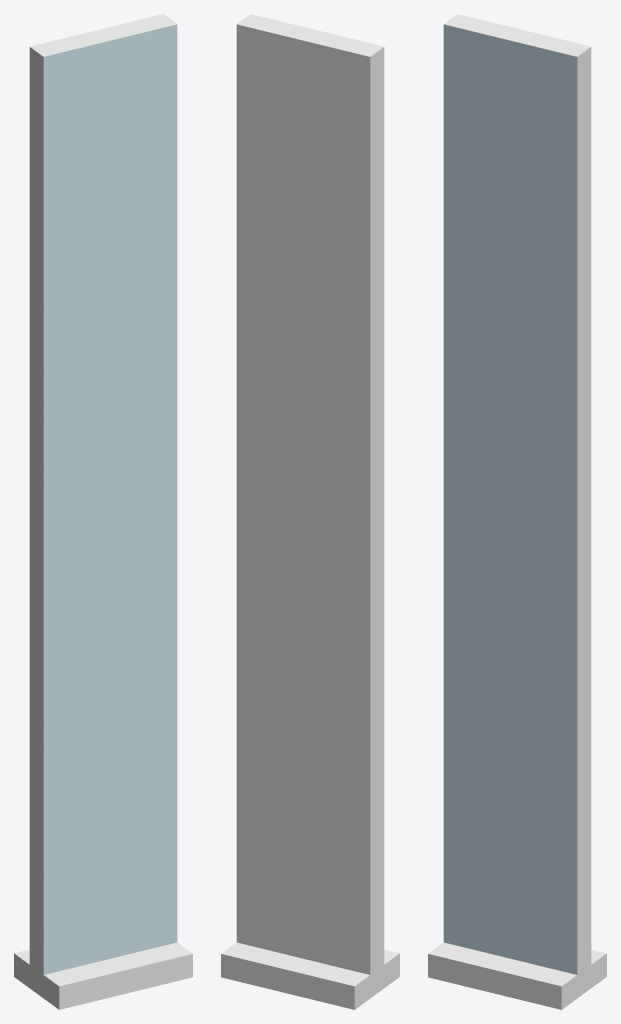
The model's file is 27_wall.FBX.
The picture shows the model from 3 angles, left to right: view 1: azimuth 30°, elevation 25°; view 2: azimuth 150°, elevation 25°; view 3: azimuth 330°, elevation 25°; orthographic projection.
Visible parts, largest first — view 1: 27_wall; view 2: 27_wall; view 3: 27_wall.
Part boxes in pixels (left/top/right/bottom): 27_wall: left=14, top=14, right=192, bottom=1009; 27_wall: left=221, top=14, right=399, bottom=1009; 27_wall: left=428, top=14, right=606, bottom=1009.
Bounding box in the file's own units: 64.11 × 432 × 37.56.
